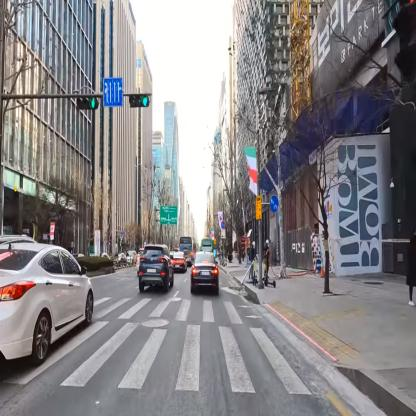Green: (75, 95, 99, 112), (129, 94, 150, 109)
